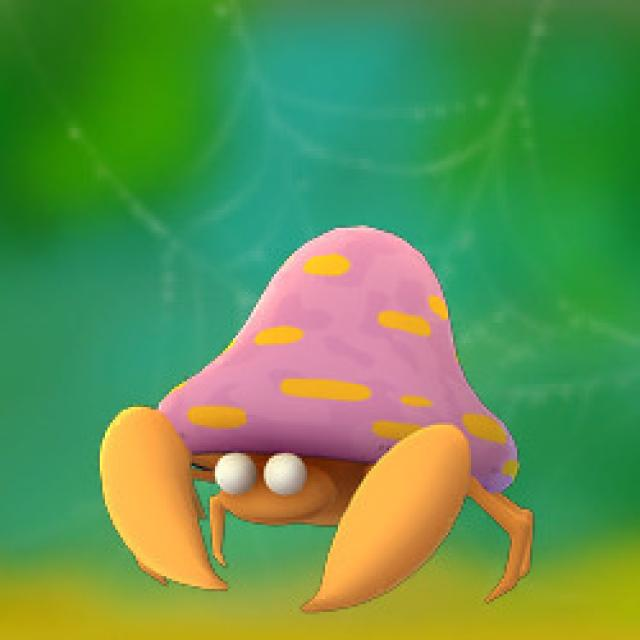Parasect: (96, 218, 516, 610)
